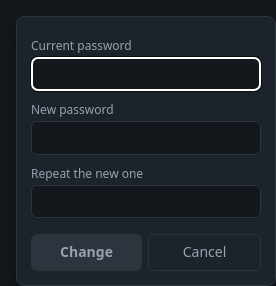
Test: changing your own password › says which one it is waiting on the shop for
(page scrolled)
In the password field labelled "Current password": (146, 74) [31, 57, 261, 91], type "the password in use"
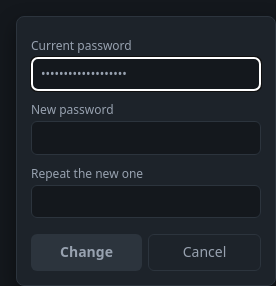
In the password field labelled "New password": (146, 138) [31, 121, 261, 155], type "a different password entirely"
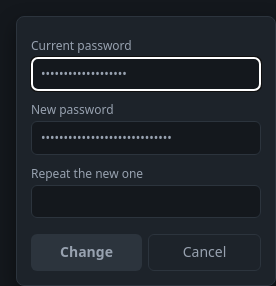
In the password field labelled "Repeat the new one": (146, 202) [31, 185, 261, 218], type "a different password entirely"
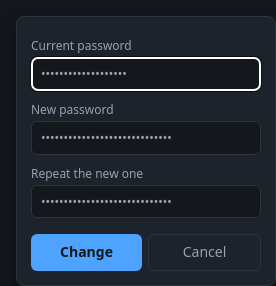
Click the button "Change": (86, 252) [31, 234, 142, 271]
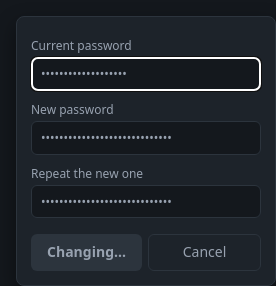
Check: the button "Changing..." is disabled, box [31, 234, 142, 271]
